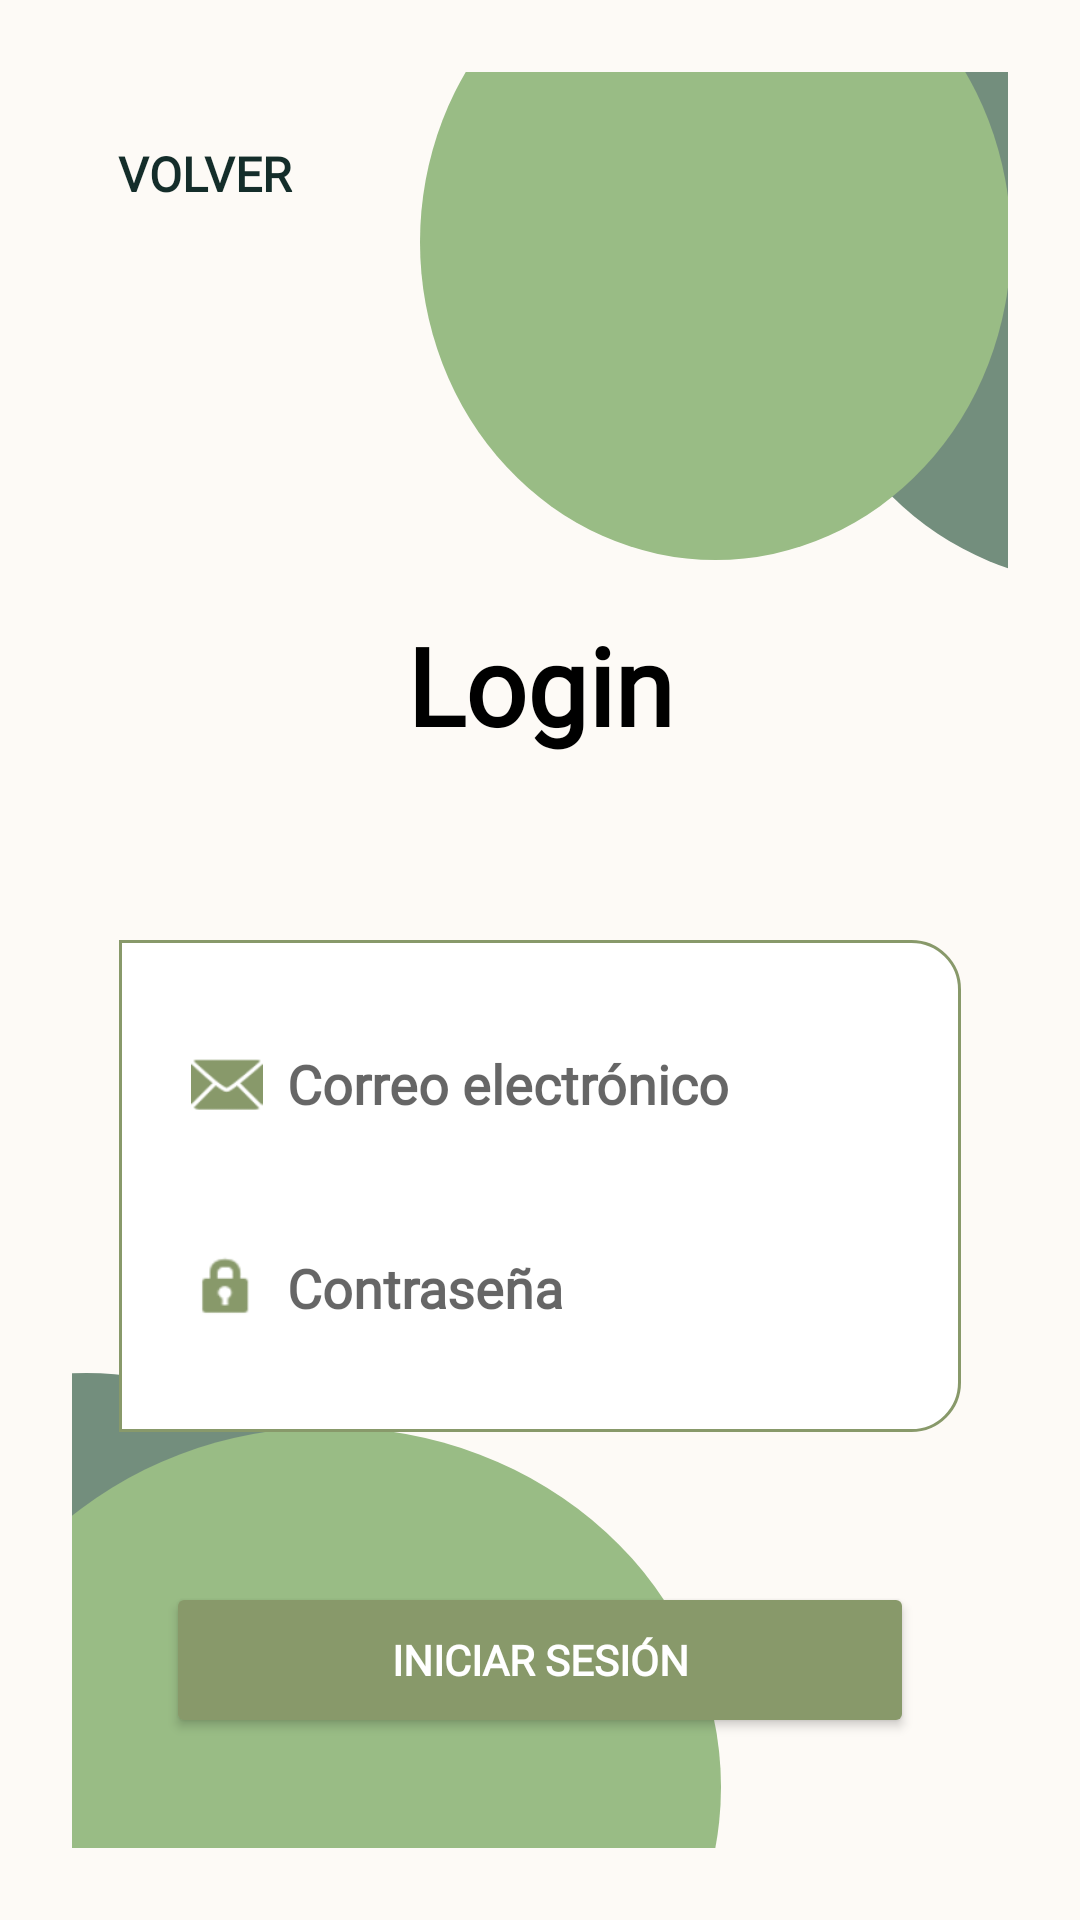

Screen size 1080px x 1920px. Icon name, then its box in pixels as Rect(x1, y1, x2, y2):
email: Rect(191, 1059, 263, 1110)
lock idle: Rect(202, 1258, 249, 1313)
